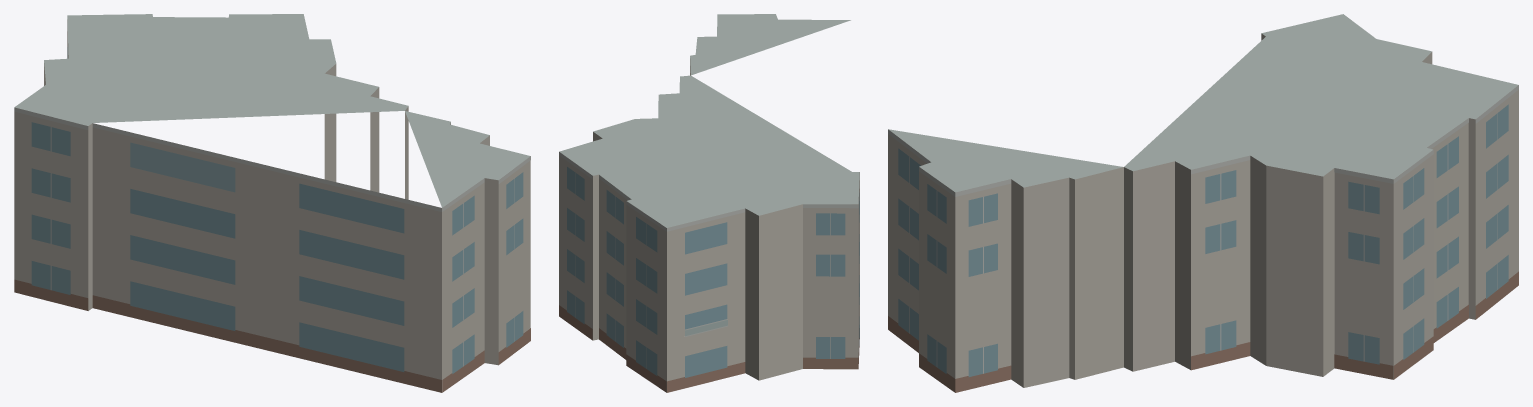
File: survey-upis-32690578.glb
3 renders of one model, left to right at view 1: azimuth 30°, elevation 25°; view 2: azimuth 150°, elevation 25°; view 3: azimuth 270°, elevation 25°, orthographic. The views are drawn at different scales.
Parts seen in each view (by area): view 1: survey-upis-32690578.tmp; view 2: survey-upis-32690578.tmp; view 3: survey-upis-32690578.tmp.
Boxes of the visible parts, x1,y1,x2,y2 form: survey-upis-32690578.tmp: (14, 14, 530, 392); survey-upis-32690578.tmp: (559, 14, 859, 392); survey-upis-32690578.tmp: (888, 14, 1518, 392).
Size of the model in its own units: 20.53 by 10.75 by 30.66.
